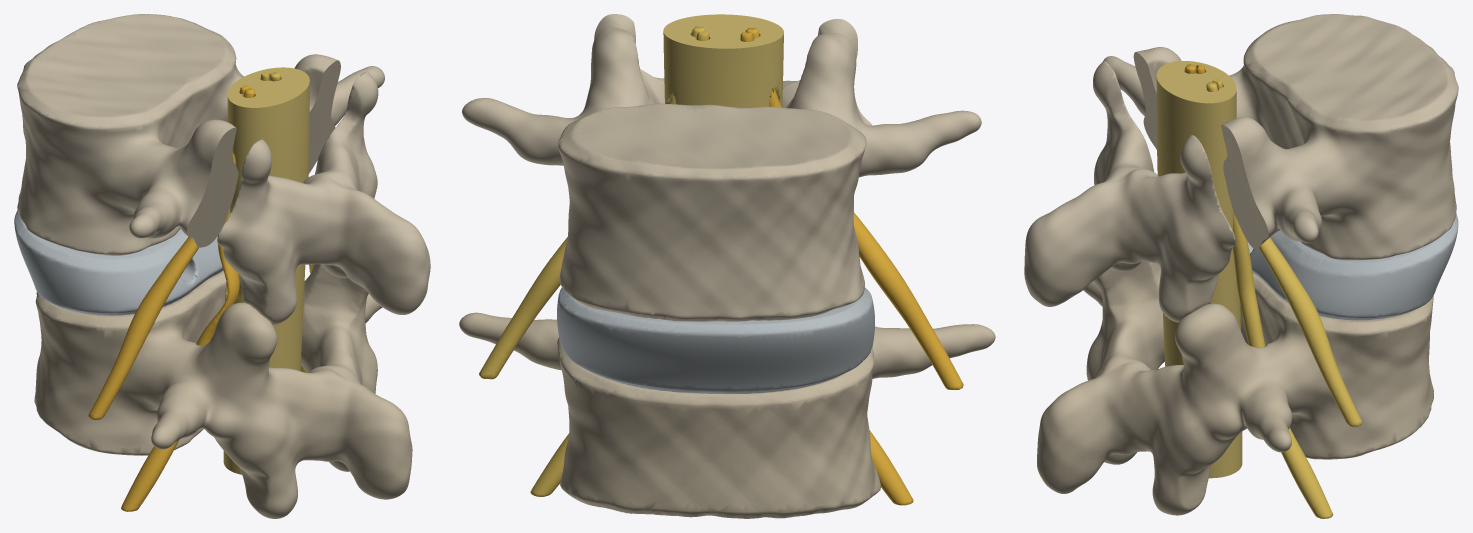
Rendered from spine_listhesis_1.glb.
3 renders of one model, left to right at view 1: azimuth 30°, elevation 25°; view 2: azimuth 150°, elevation 25°; view 3: azimuth 270°, elevation 25°, orthographic. The views are drawn at different scales.
Visible parts, largest first — view 1: l5_vertebra, l4_vertebra, l4_posterior_arch, annulus_fibrosus, thecal_sac, l4_nerve_root_left, l5_nerve_root_left; view 2: l4_vertebra, l5_vertebra, annulus_fibrosus, thecal_sac, l4_nerve_root_left, nerve_roots, l4_posterior_arch, l5_nerve_root_left; view 3: l5_vertebra, l4_vertebra, l4_posterior_arch, annulus_fibrosus, thecal_sac, nerve_roots.
Boxes of the visible parts, box(x1,y1,x2,y2) form: l5_vertebra: box(34, 264, 412, 518); l4_vertebra: box(17, 14, 384, 255); l4_posterior_arch: box(217, 71, 430, 325); annulus_fibrosus: box(14, 210, 223, 315); thecal_sac: box(223, 67, 309, 474); l4_nerve_root_left: box(88, 88, 255, 419); l5_nerve_root_left: box(121, 85, 250, 511); l4_vertebra: box(462, 27, 981, 321); l5_vertebra: box(459, 312, 995, 518); annulus_fibrosus: box(557, 287, 874, 393); thecal_sac: box(663, 14, 783, 107); l4_nerve_root_left: box(745, 27, 963, 389); nerve_roots: box(479, 26, 709, 496); l4_posterior_arch: box(579, 14, 872, 125); l5_nerve_root_left: box(740, 32, 913, 505); l5_vertebra: box(1037, 261, 1433, 515); l4_vertebra: box(1103, 14, 1458, 260); l4_posterior_arch: box(1024, 61, 1235, 322); annulus_fibrosus: box(1247, 213, 1458, 320); thecal_sac: box(1156, 61, 1242, 478); nerve_roots: box(1206, 79, 1362, 518).
Bounding box in the file's own units: 7.95 × 7.92 × 7.74.
